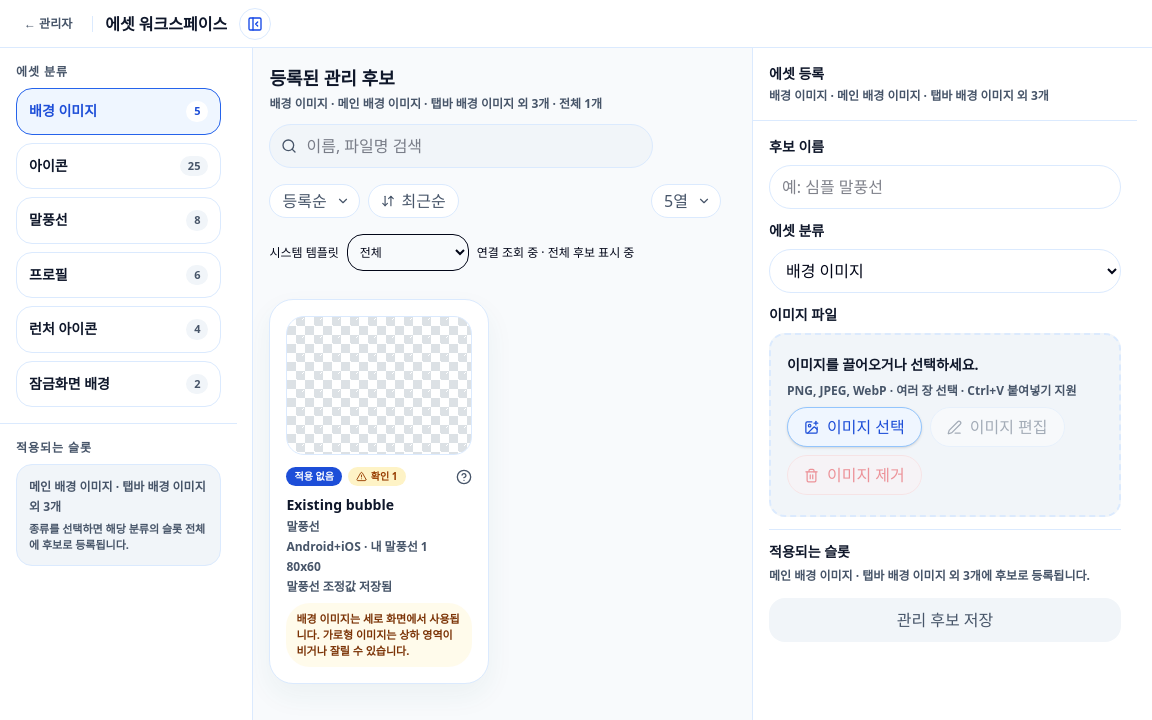
Test case: admin asset paste › opens linked information from the full card without extra actions
This screenshot has width=1152, height=720.
Click the button named "Existing bubble 에셋 상세 보기" at (379, 492), box 270,300 -> 488,683
(page scrolled)
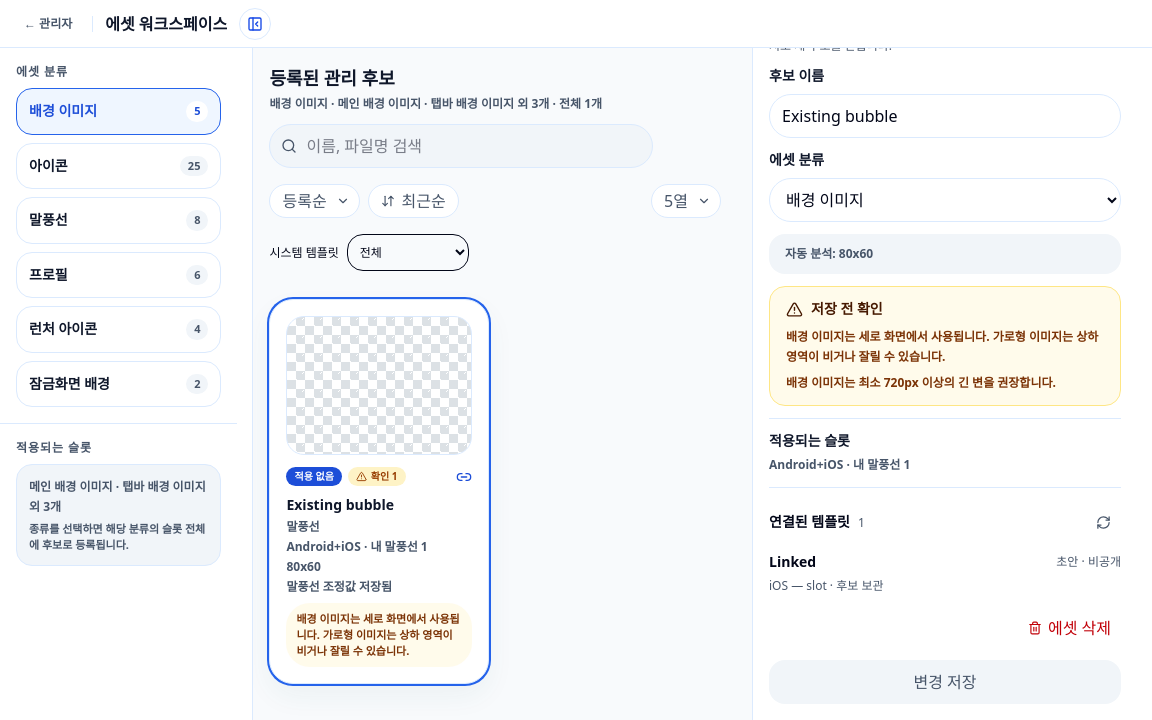
Expected: the field labelled "후보 이름" is enabled, 769,94 -> 1121,138
Now the text "Linked" is shown, box 769,552 -> 816,572
